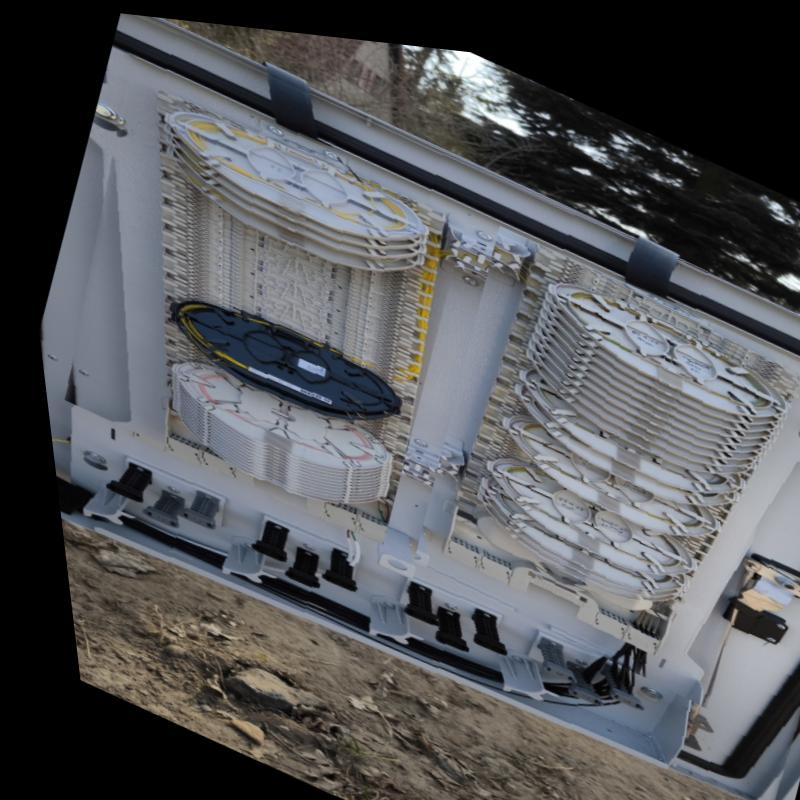NT-Gehause: (31, 10, 800, 795)
Spleiskassetten: (399, 214, 794, 675), (110, 68, 451, 533)
